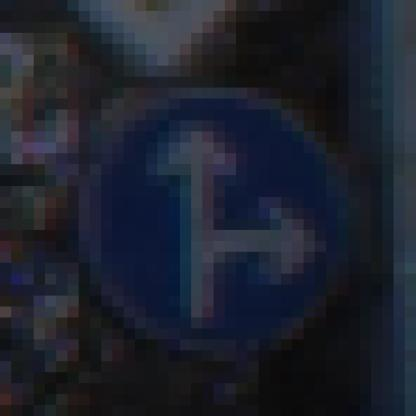Straight or Right: (68, 67, 361, 362)
